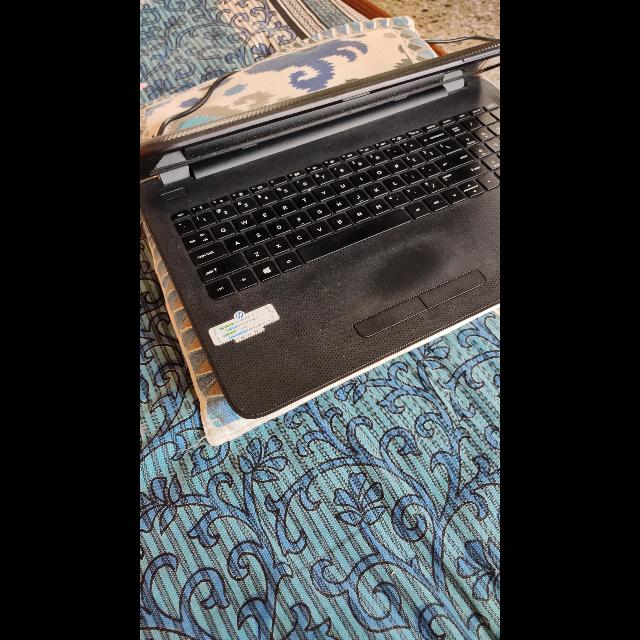Laptop: (158, 1, 382, 640)
